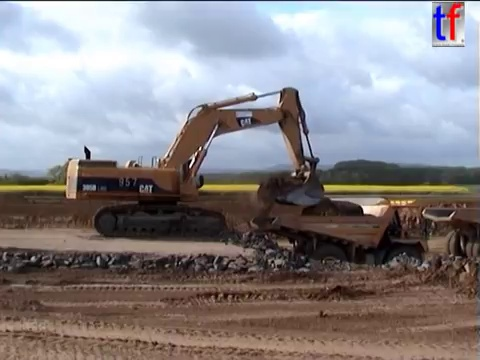excavator: (63, 84, 327, 240)
truck: (249, 195, 440, 284), (419, 204, 480, 270)
